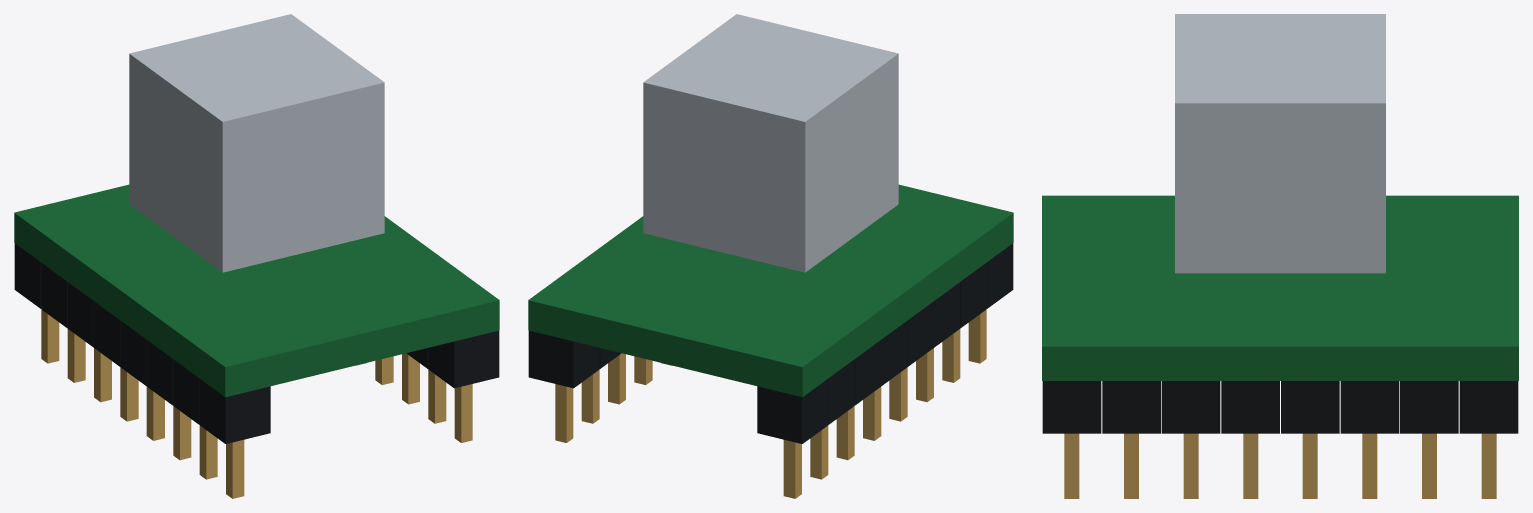
File: tmc2209.glb
The picture shows the model from 3 angles, left to right: view 1: azimuth 30°, elevation 25°; view 2: azimuth 150°, elevation 25°; view 3: azimuth 270°, elevation 25°; orthographic projection. The views are drawn at different scales.
Parts seen in each view (by area): view 1: tmc2209; view 2: tmc2209; view 3: tmc2209.
Boxes of the visible parts, x1,y1,x2,y2 form: tmc2209: (14, 14, 499, 498); tmc2209: (528, 14, 1013, 498); tmc2209: (1042, 14, 1518, 498).
Size of the model in its own units: 15.24 by 17.6 by 20.32.
